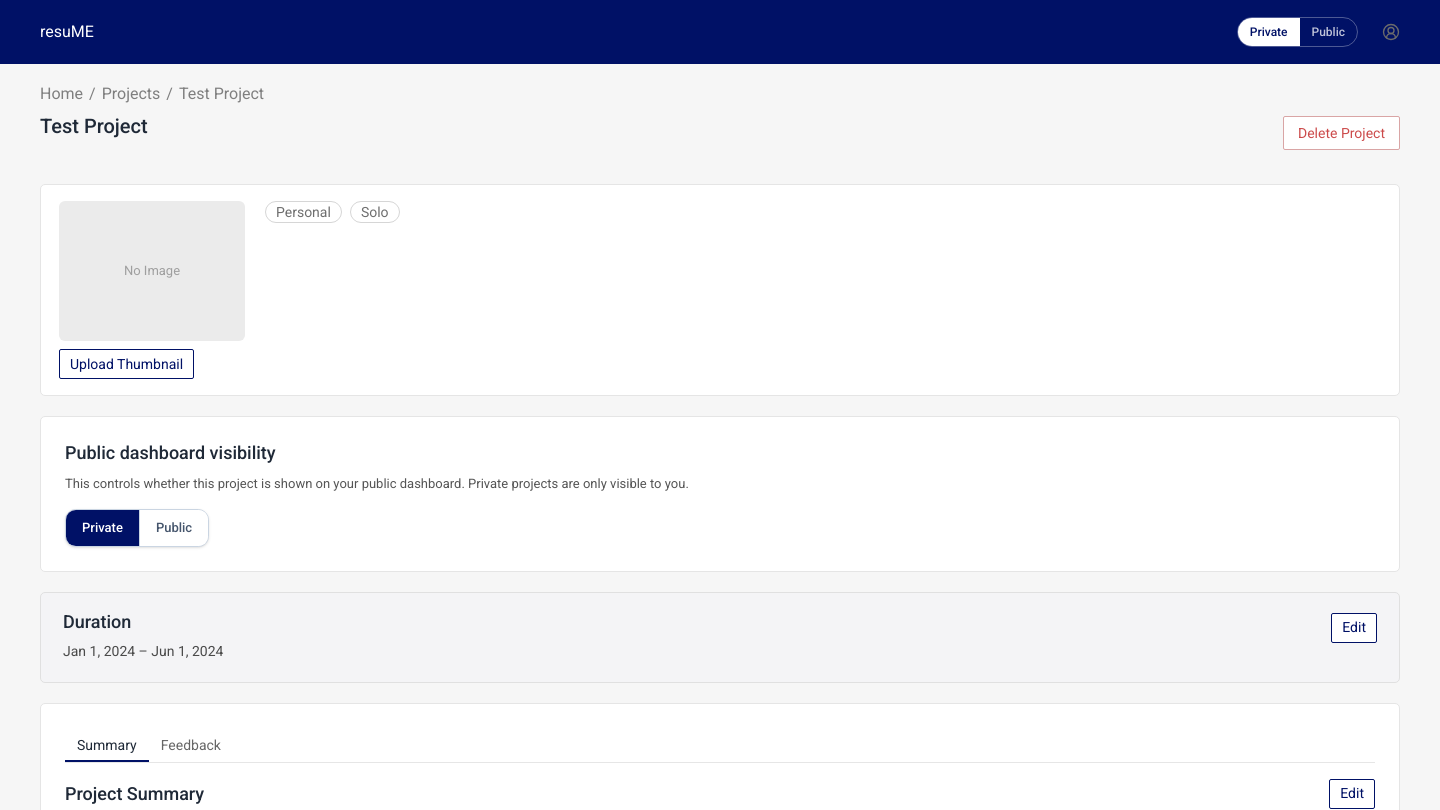
Test case: ProjectDetailPage › feedback display › renders feedback file names
Step 1. Click the button "Feedback" → {"x": 191, "y": 745}, box [149,728,233,762]
(page scrolled)
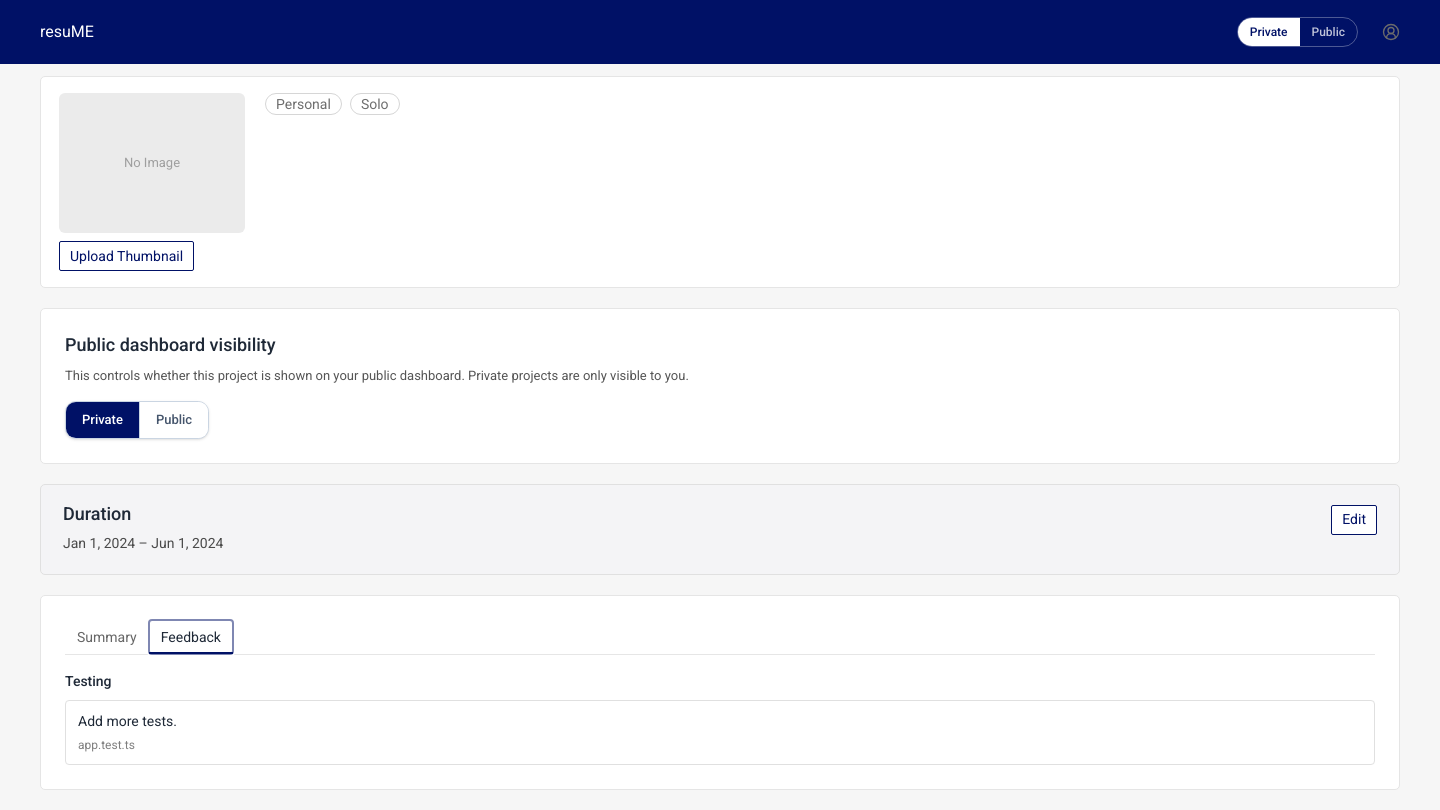
expect the text "app.test.ts" is shown: met, box [78,738,135,752]
